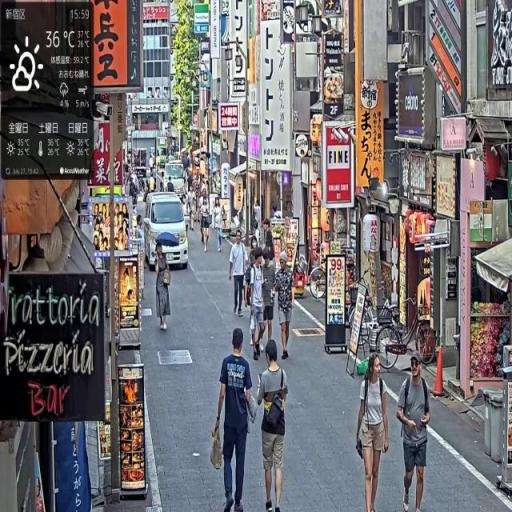person: (212, 327, 257, 512), (255, 340, 289, 512), (396, 353, 432, 512), (356, 352, 391, 512), (273, 251, 297, 361), (229, 229, 249, 318), (155, 243, 172, 332), (214, 196, 226, 255)
